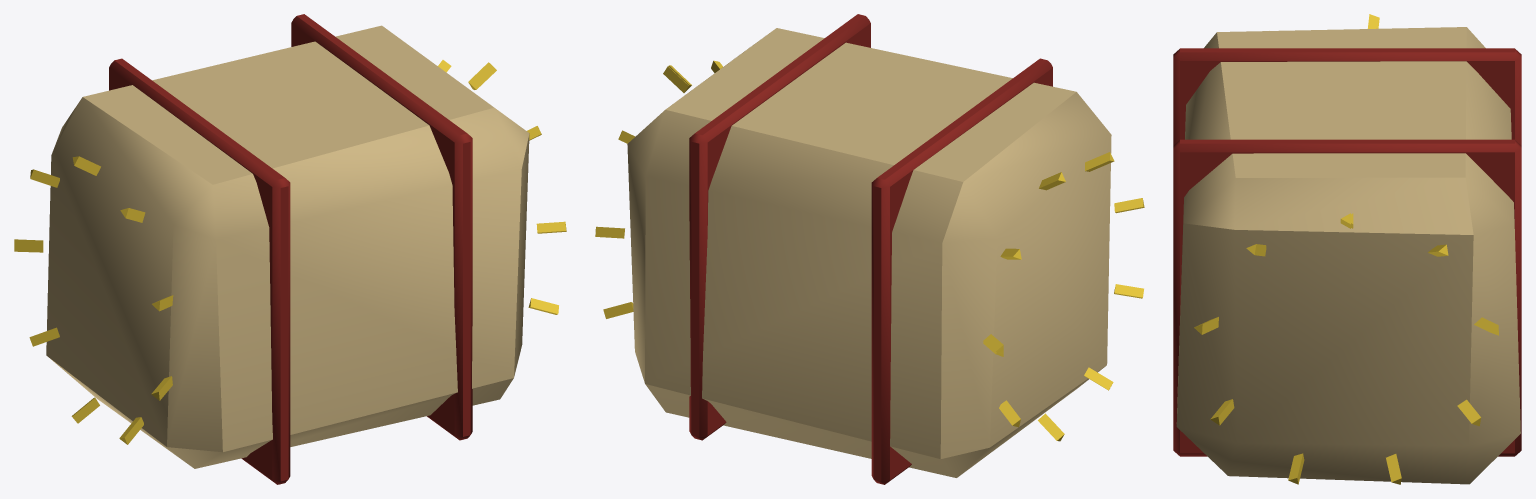
Rendered from 105_botte_paille.fbx.
3 renders of one model, left to right at view 1: azimuth 30°, elevation 25°; view 2: azimuth 150°, elevation 25°; view 3: azimuth 270°, elevation 25°, orthographic. The views are drawn at different scales.
Parts seen in each view (by area): view 1: Paille, Lien; view 2: Paille, Lien; view 3: Paille, Lien.
Boxes of the visible parts, <box> form: Paille: <box>14,25,566,468</box>; Lien: <box>109,14,472,484</box>; Paille: <box>595,28,1144,477</box>; Lien: <box>689,14,1052,484</box>; Paille: <box>1176,14,1520,484</box>; Lien: <box>1173,48,1521,456</box>.
Size of the model in its own units: 0.392 by 0.28 by 0.28.
1 material, 1 textured.
